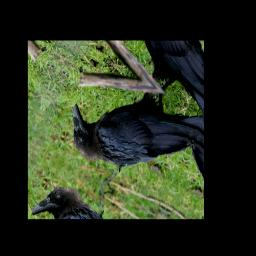Crow: (58, 54, 203, 204)
